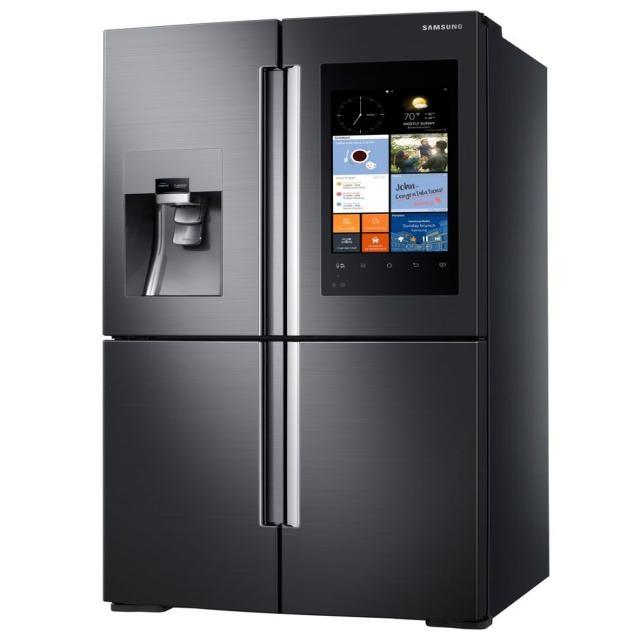obstacle: (100, 11, 550, 630)
